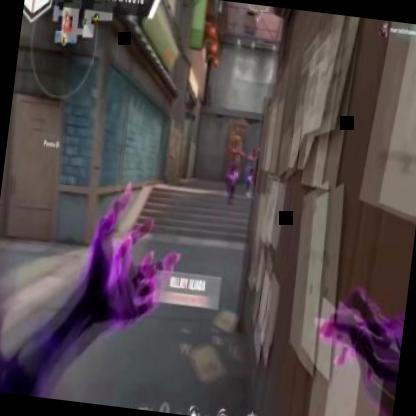enemy: (221, 133, 244, 206), (242, 148, 258, 194)
enemy_head: (232, 134, 242, 148), (250, 147, 256, 158)
